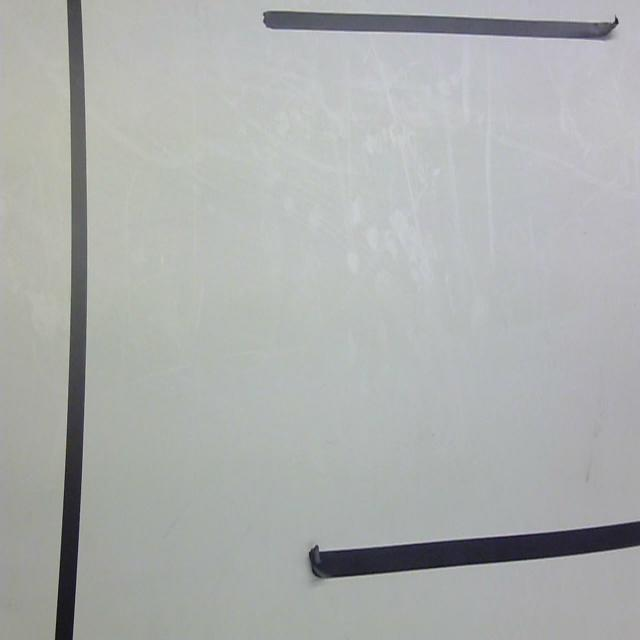tape: (42, 0, 96, 640), (304, 498, 640, 596), (252, 4, 630, 58)
